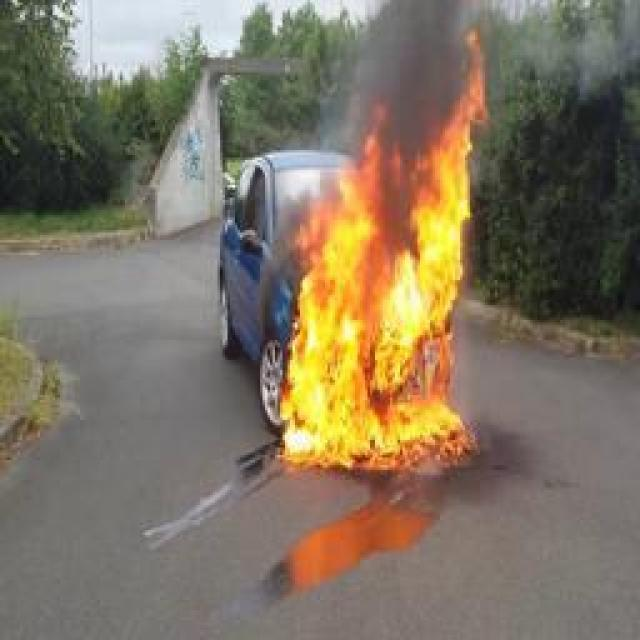Fire: (292, 36, 482, 452)
